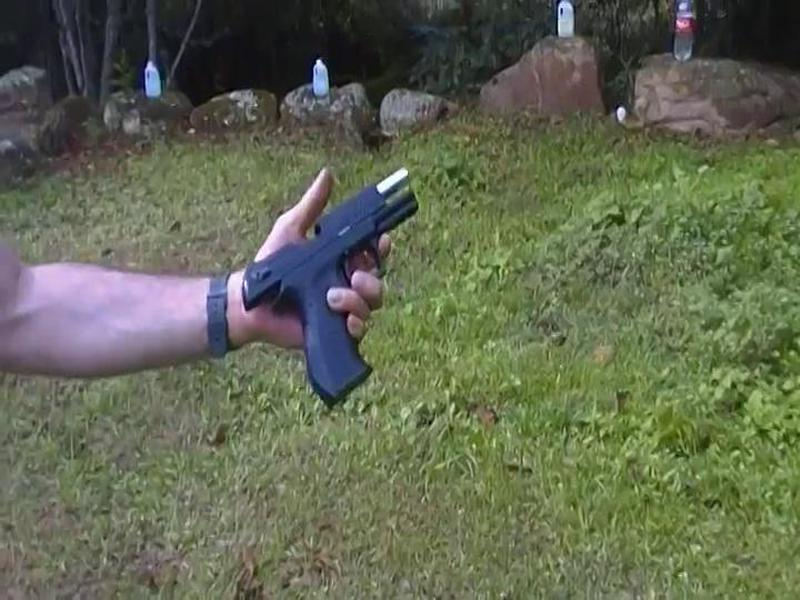Pistola: (237, 154, 438, 415)
